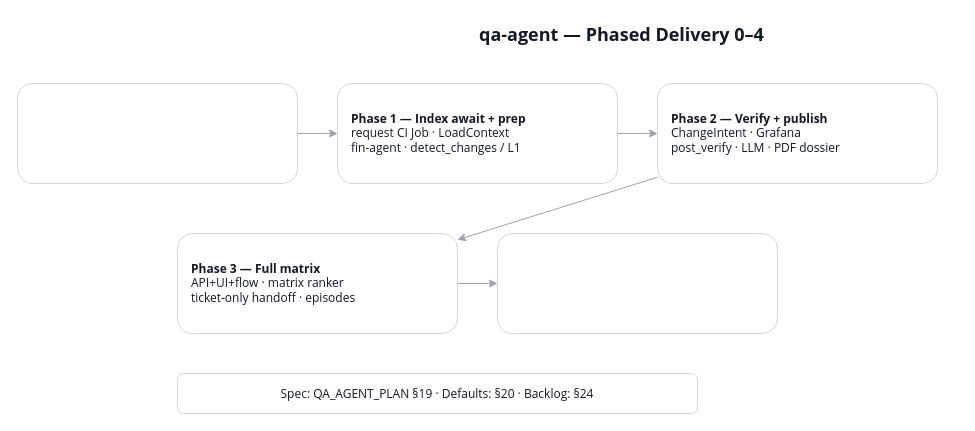
The diagram is 975 pixels wide and 431 high, and some of its shapes have lost their labels. The shapes that lost their labels are listed below. From the top down, each one's centre as x and y in pixels, then its label:
At (157,133): "Phase 0 — MVP Webhook · CI classify smoke ui-test · Cliq notify".
At (637,283): "Phase 4 — Release gate HITL + PDF preview learning · SAST-first security".
